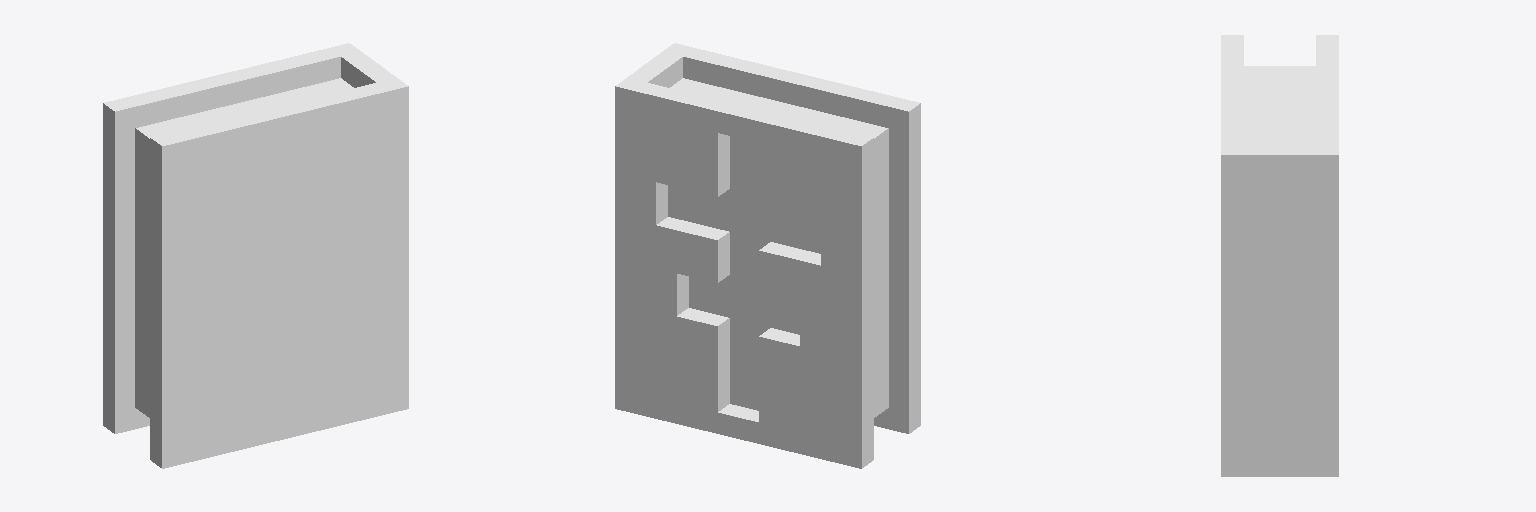
Rendered from bookHoly.vox.obj.
3 renders of one model, left to right at view 1: azimuth 30°, elevation 25°; view 2: azimuth 150°, elevation 25°; view 3: azimuth 270°, elevation 25°, orthographic.
Visible parts, largest first — view 1: object 1; view 2: object 1; view 3: object 1.
Part boxes in pixels (x1,y1,x2,y2): object 1: (103,43,408,468); object 1: (615,43,920,468); object 1: (1221,35,1338,476).
Bounding box in the file's own units: 1.2 × 1.5 × 0.5.